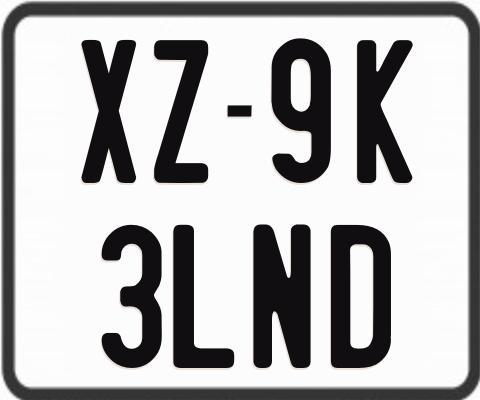3: (101, 222, 167, 367)
9: (271, 36, 335, 186)
D: (331, 223, 391, 367)
K: (357, 38, 419, 185)
L: (171, 223, 237, 369)
N: (253, 224, 313, 368)
X: (79, 38, 138, 187)
Z: (152, 37, 212, 185)
